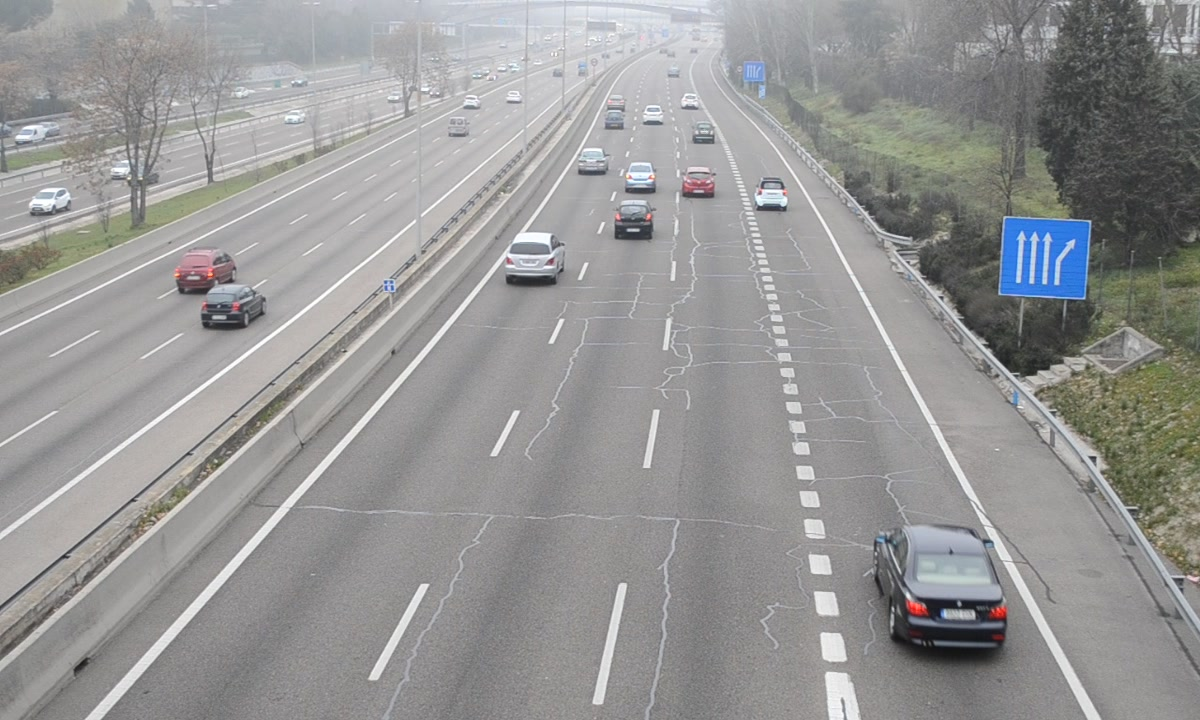car: (874, 522, 1007, 651), (504, 231, 559, 281), (613, 199, 656, 241), (755, 176, 789, 213), (682, 166, 717, 200), (625, 161, 658, 194), (577, 148, 609, 176), (691, 121, 716, 145), (602, 111, 627, 131)
